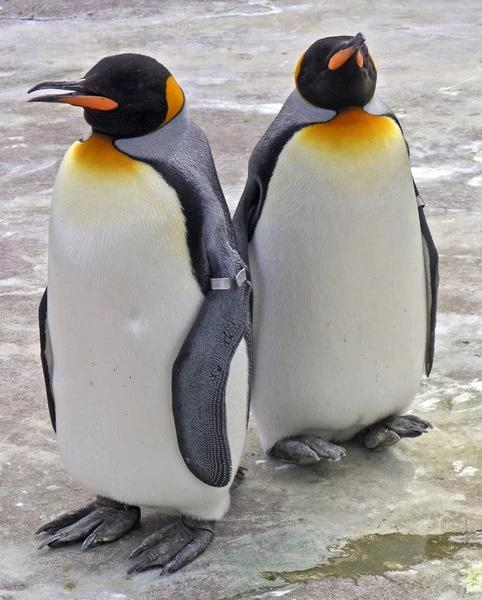king: (0, 48, 268, 585), (226, 25, 445, 489)
